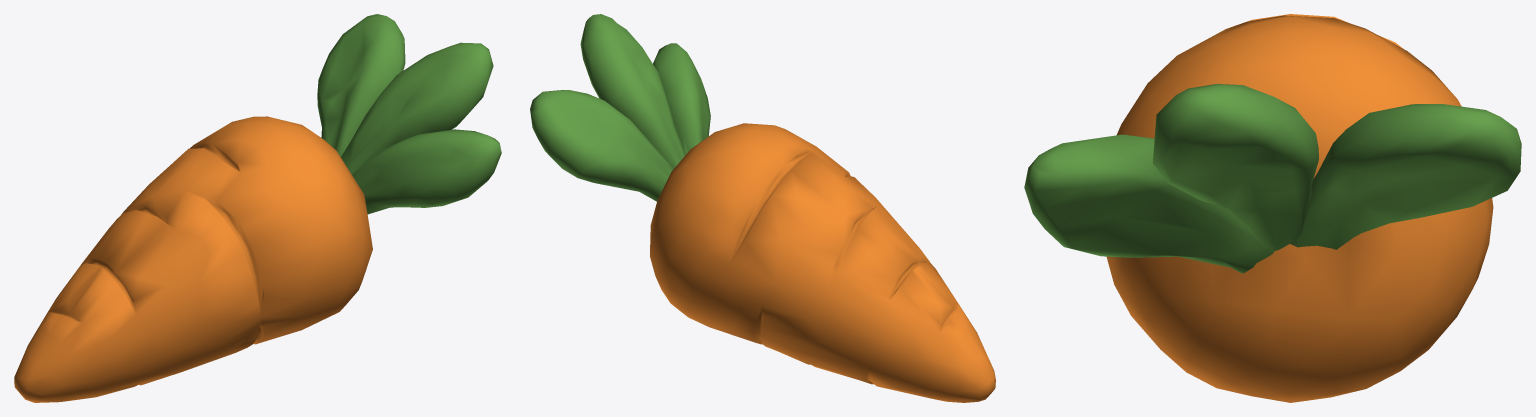
File: Carrot.glb
3 views of the same model, side by side, from view 1: azimuth 30°, elevation 25°; view 2: azimuth 150°, elevation 25°; view 3: azimuth 270°, elevation 25° (orthographic). The views are drawn at different scales.
Parts seen in each view (by area): view 1: tripo_node_ab43389c-5673-4112-aa40-f4112eec6d61; view 2: tripo_node_ab43389c-5673-4112-aa40-f4112eec6d61; view 3: tripo_node_ab43389c-5673-4112-aa40-f4112eec6d61.
Boxes of the visible parts, x1,y1,x2,y2 form: tripo_node_ab43389c-5673-4112-aa40-f4112eec6d61: (14, 14, 501, 402); tripo_node_ab43389c-5673-4112-aa40-f4112eec6d61: (530, 14, 995, 402); tripo_node_ab43389c-5673-4112-aa40-f4112eec6d61: (1024, 14, 1521, 402).
Size of the model in its own units: 0.5 by 0.3003 by 0.2756.
